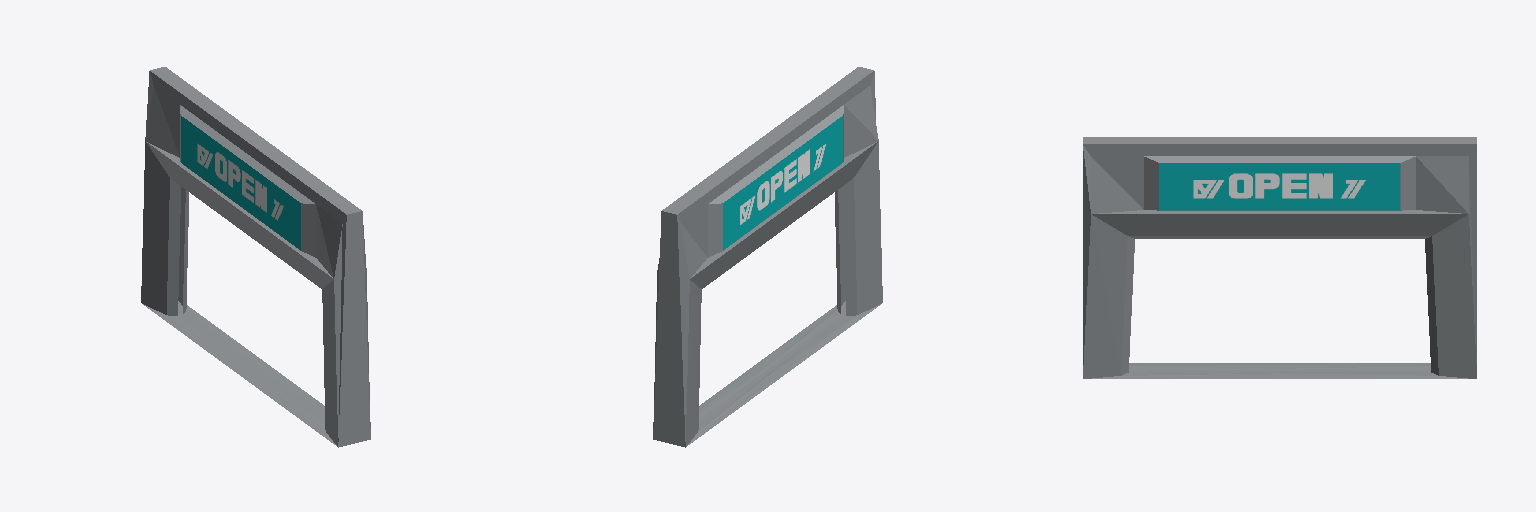
The picture shows the model from 3 angles: view 1: azimuth 30°, elevation 25°; view 2: azimuth 150°, elevation 25°; view 3: azimuth 270°, elevation 25°; orthographic projection.
Parts seen in each view (by area): view 1: walldoorclosed3:pCube1; view 2: walldoorclosed3:pCube1; view 3: walldoorclosed3:pCube1.
Part boxes in pixels (x1,y1,x2,y2): walldoorclosed3:pCube1: (141, 67, 370, 447); walldoorclosed3:pCube1: (653, 67, 882, 447); walldoorclosed3:pCube1: (1083, 137, 1476, 378).
Bounding box in the file's own units: 0.54 × 3.65 × 5.66.
Materials: 1 (1 with a texture image).